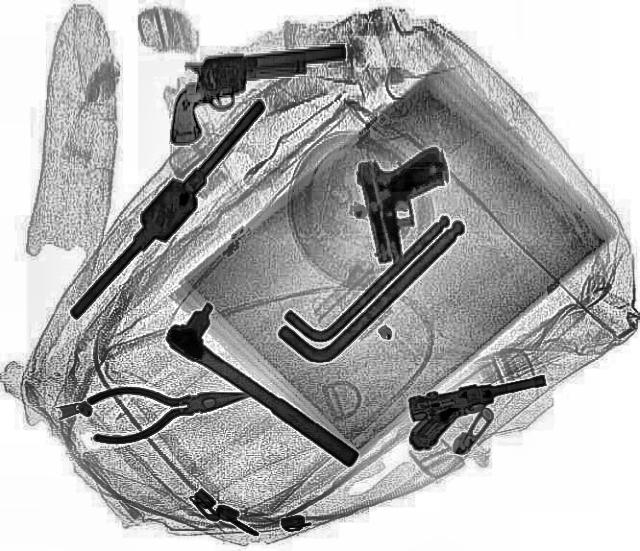Gun: (154, 43, 360, 145), (396, 371, 558, 453), (354, 145, 461, 265)
Pliers: (82, 371, 256, 445)
